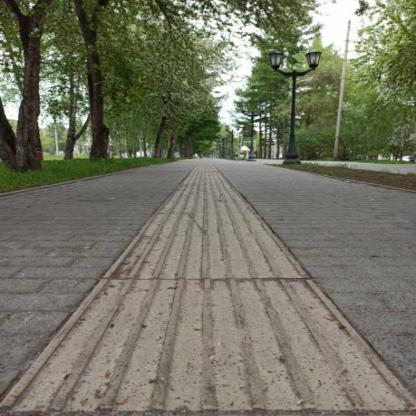podotacti: (2, 167, 413, 405)
